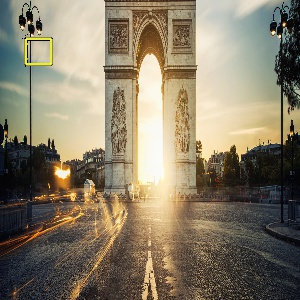square: (23, 36, 53, 66)
